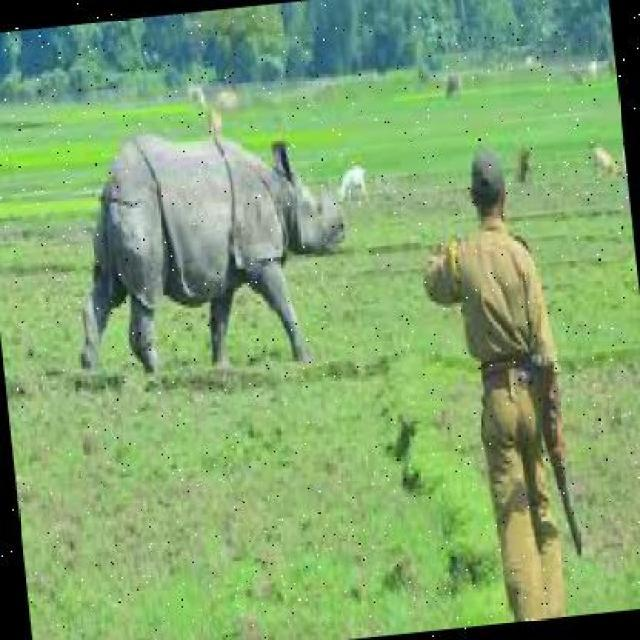Hunter: (416, 143, 570, 594)
Rifle: (540, 352, 594, 537)
Rinoceros: (59, 106, 386, 365)
